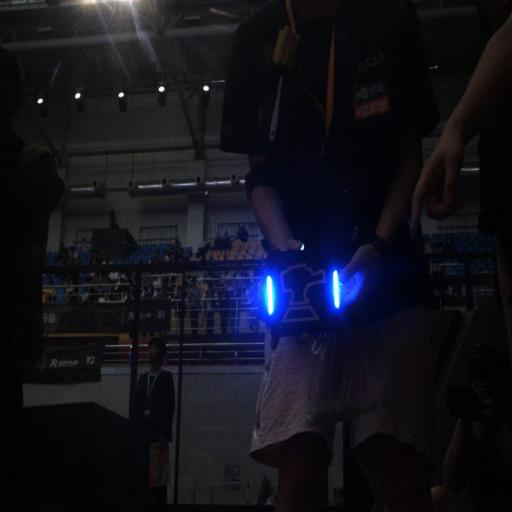target: (263, 251, 348, 334)
